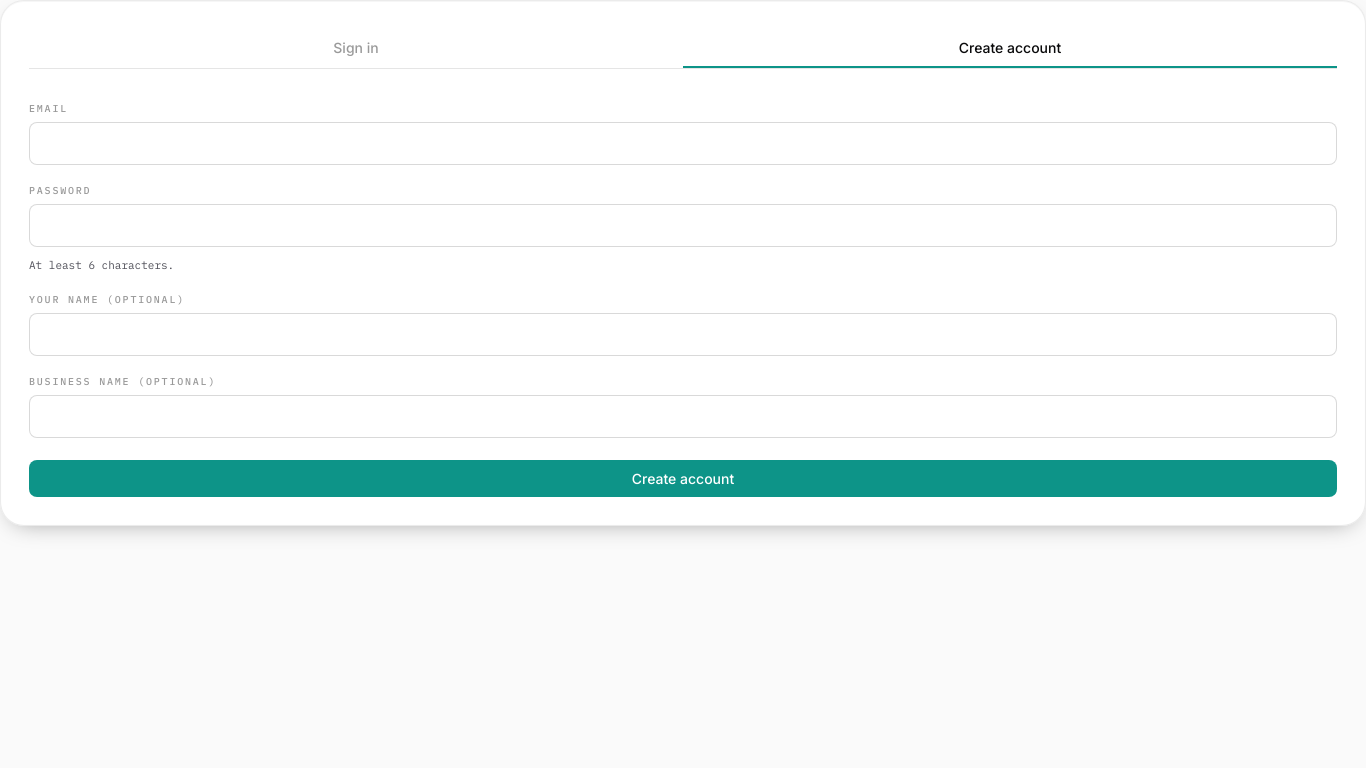
Test: AuthForm › shows validation error when email is empty
Click the tab "Sign in" at (356, 48), box [29,29,683,68]
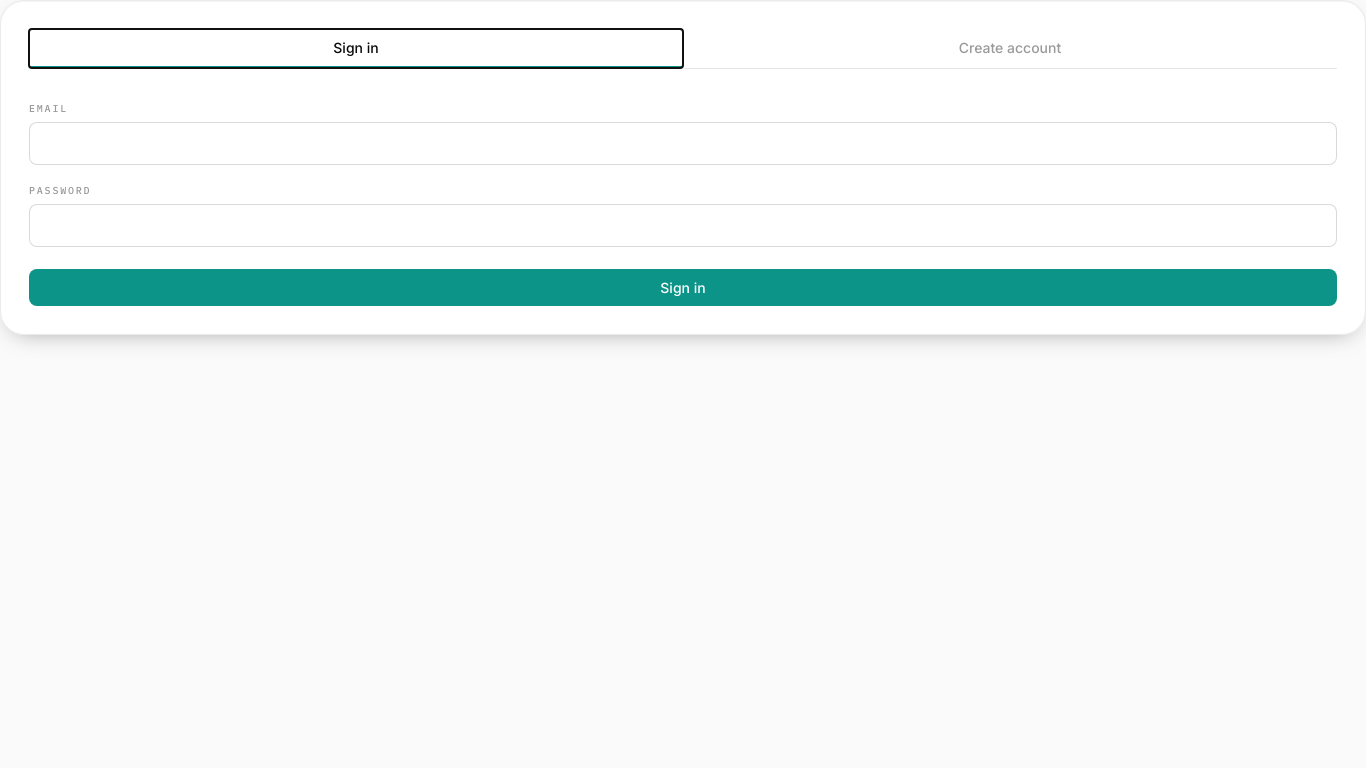
Click the button "Sign in" at (683, 288), box [29,269,1337,306]
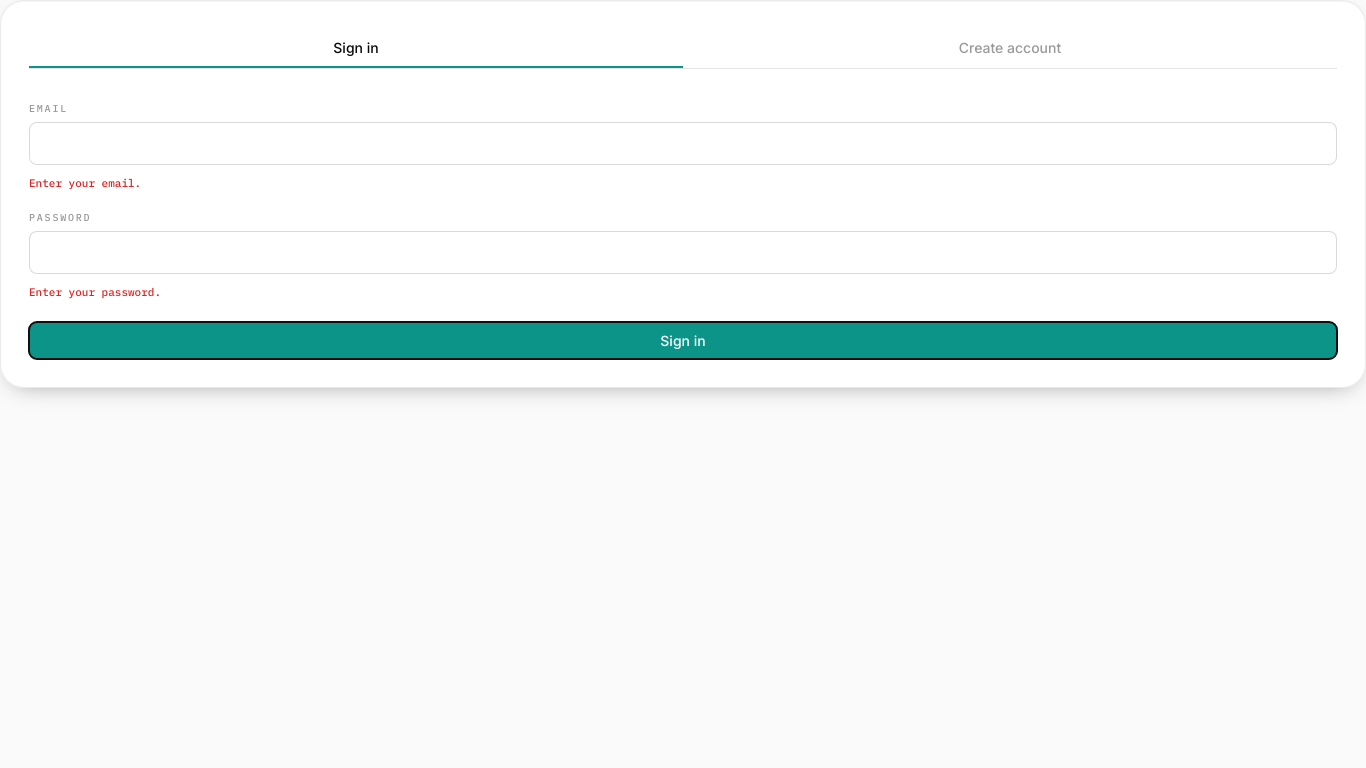
Expected: the text "Enter your email." is shown, [29,176,141,190]
